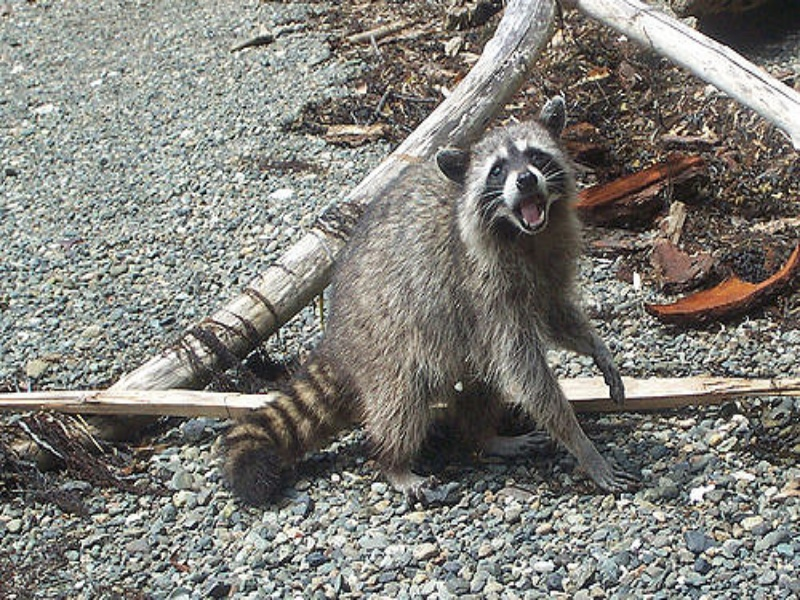raccoon: (218, 89, 642, 521)
